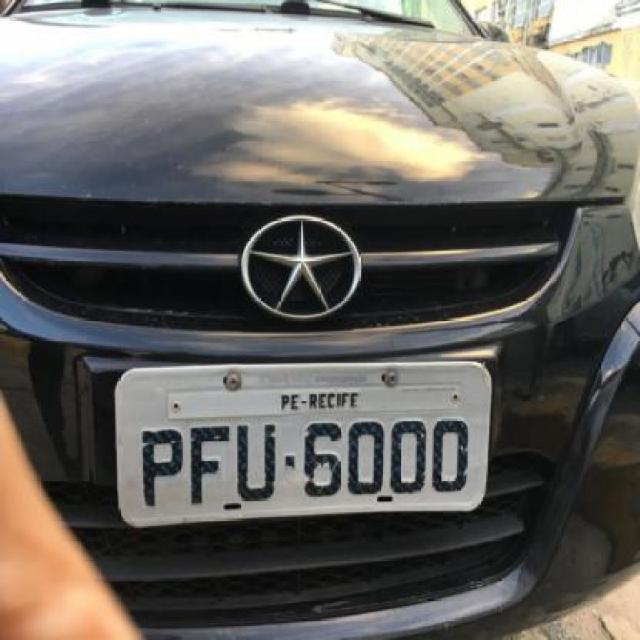old_plate: (106, 343, 497, 538)
